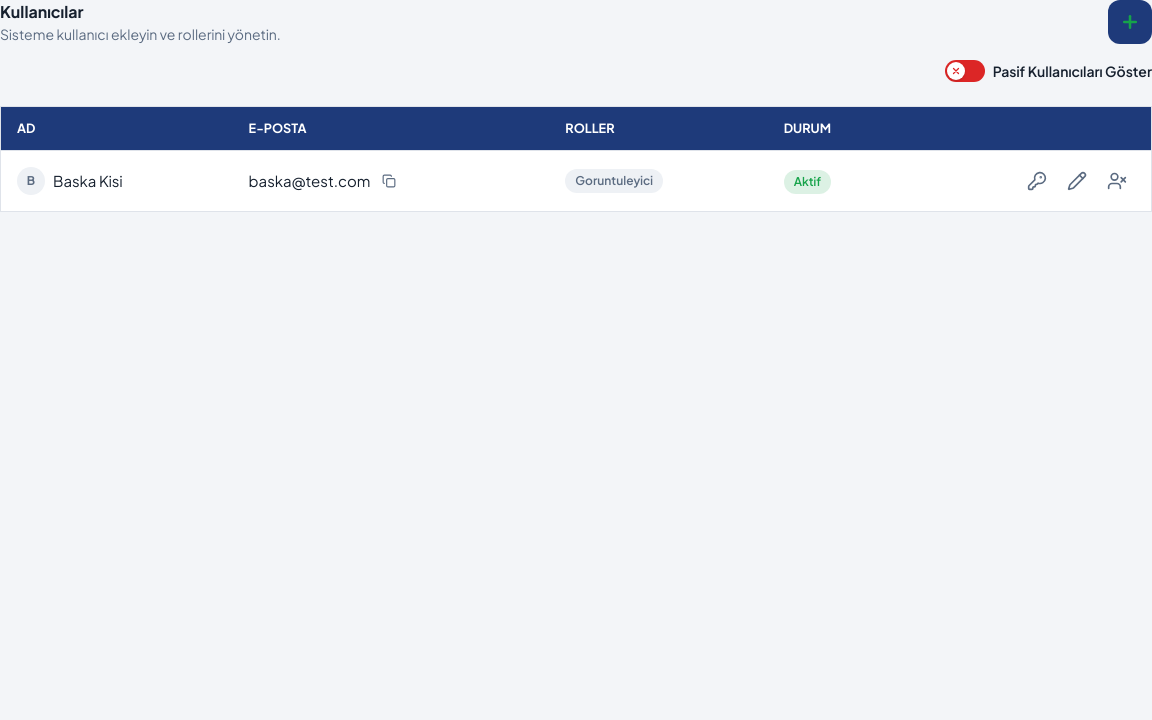
Test: UsersSection › Yeni Sifre Uret tiklaninca uretilen sifreyi gosterir
The image size is (1152, 720).
Click the button named "Yeni Şifre Üret".
click(1037, 181)  # box [1019,163,1055,199]
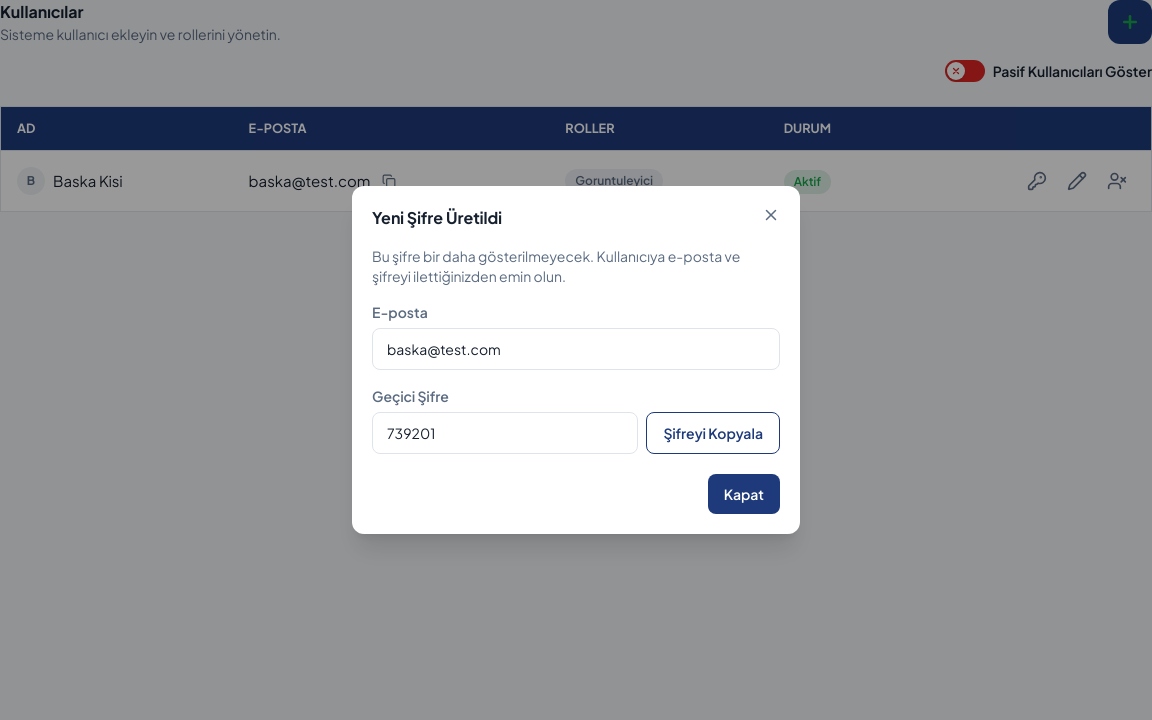
Check: the field showing "739201" is shown, box [372,412,638,454]
